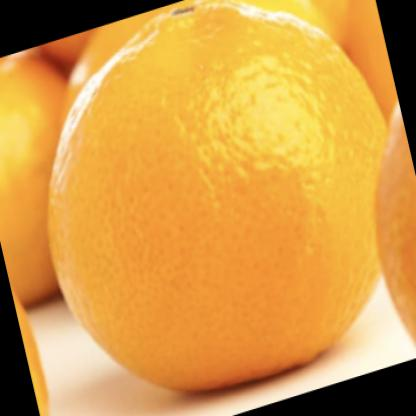orange: (37, 4, 384, 393)
